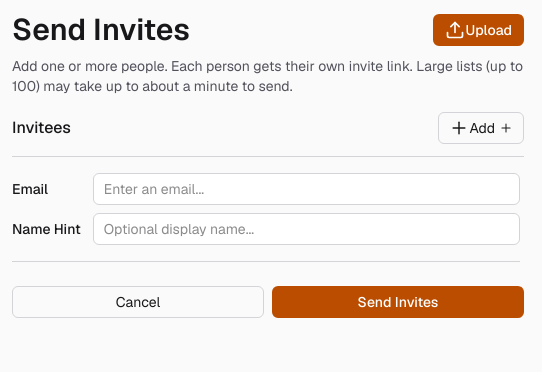
Test: pool components › should reject empty bulk invite submissions
The width and height of the screenshot is (542, 372).
What coordinates should you click on to do the following:
click the button "Send Invites"
I would click on:
 (398, 302)
Its box is [272,286,524,318].
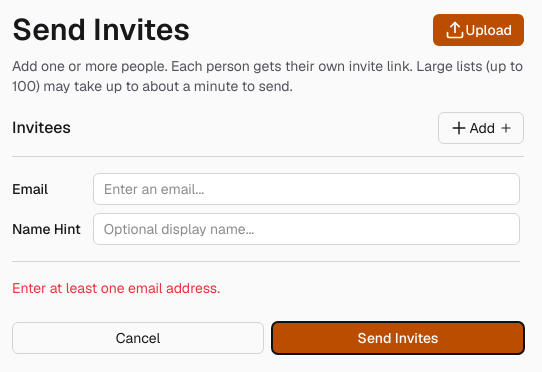
Now the message reads "Enter at least one email address.", box [12,279,220,297]
